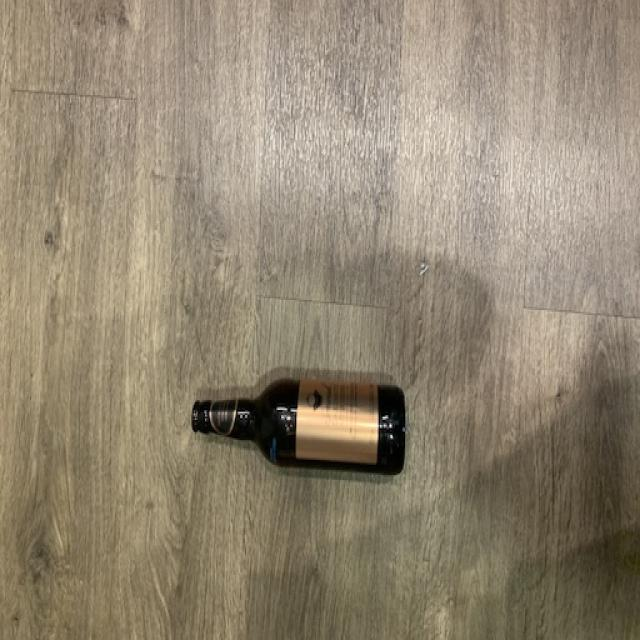litter: (190, 378, 408, 477)
